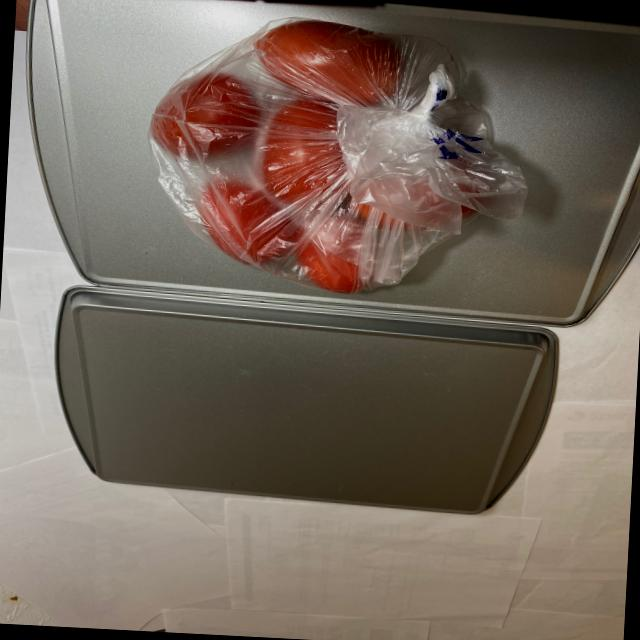tomato: (150, 18, 498, 304)
